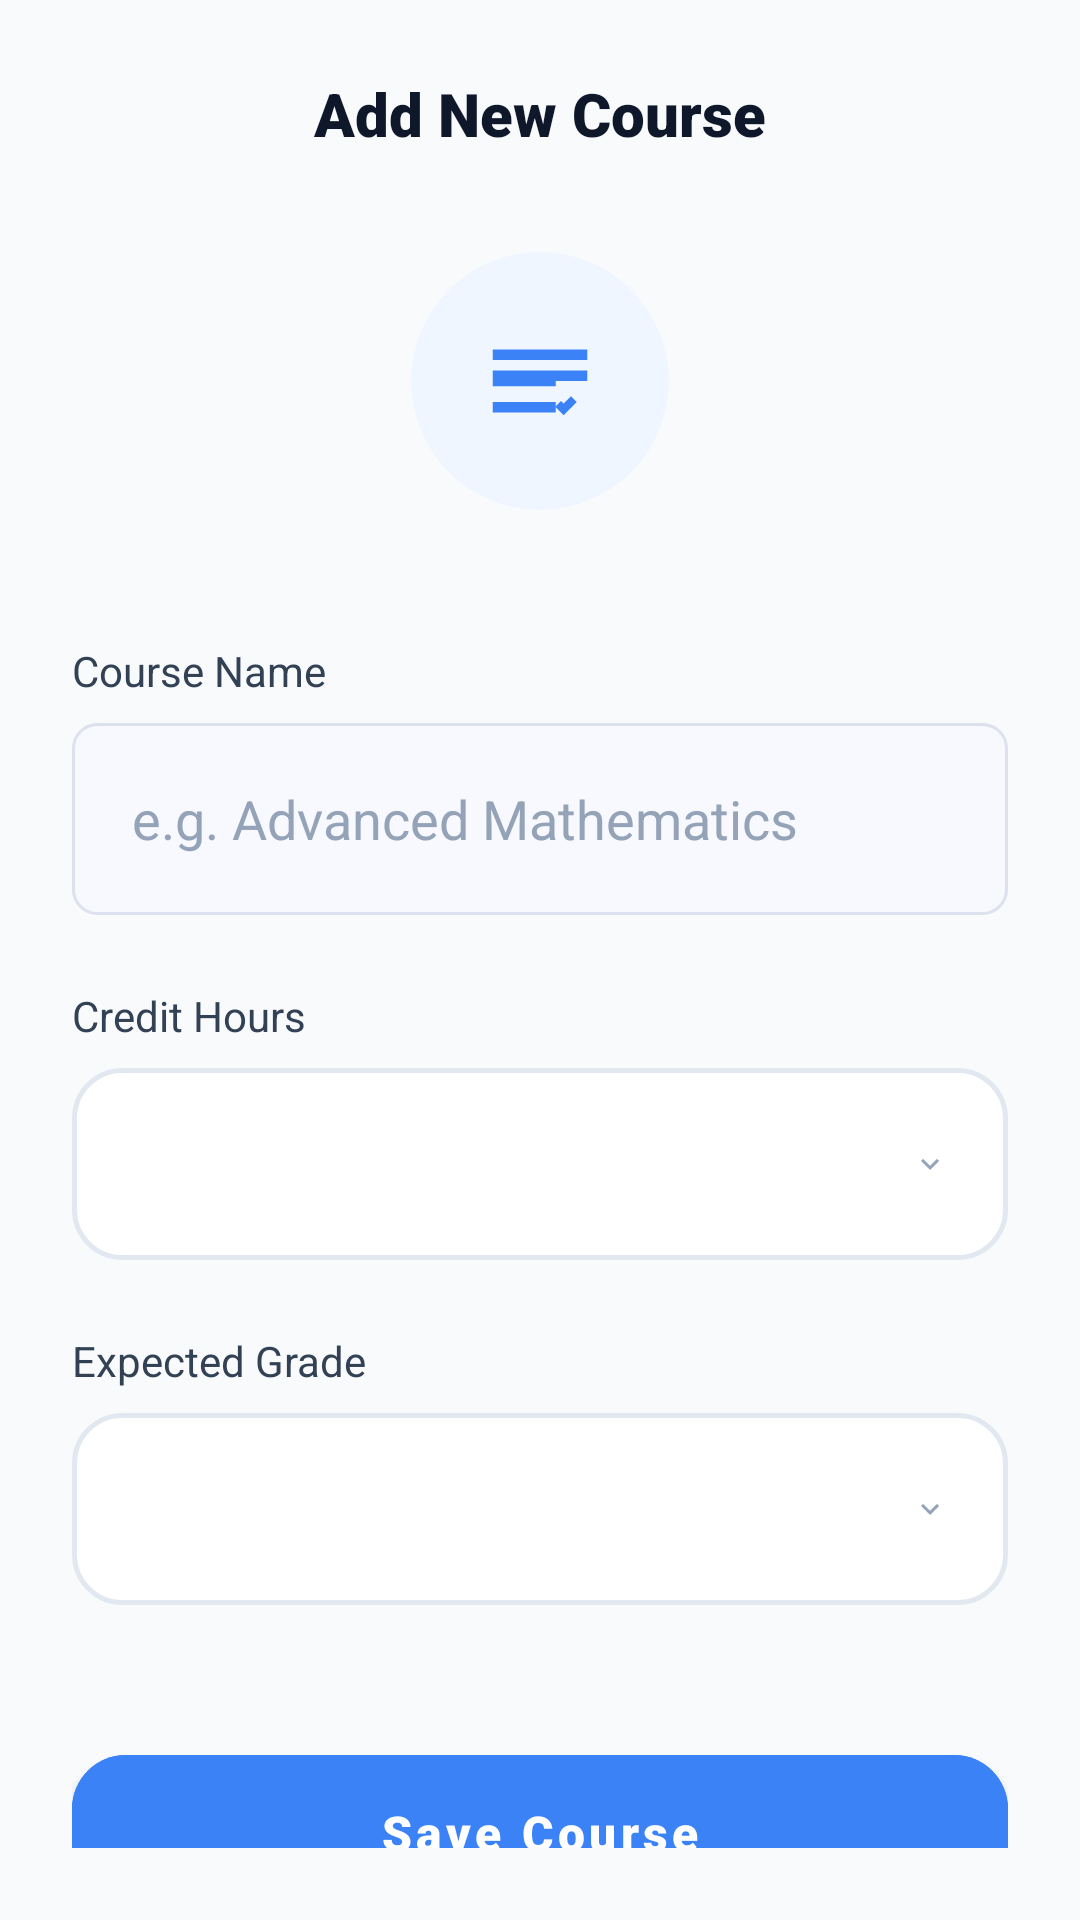

Screen size 1080 x 1920. Icon name, then its center in pixels as (x,y):
notes: (540,382)
